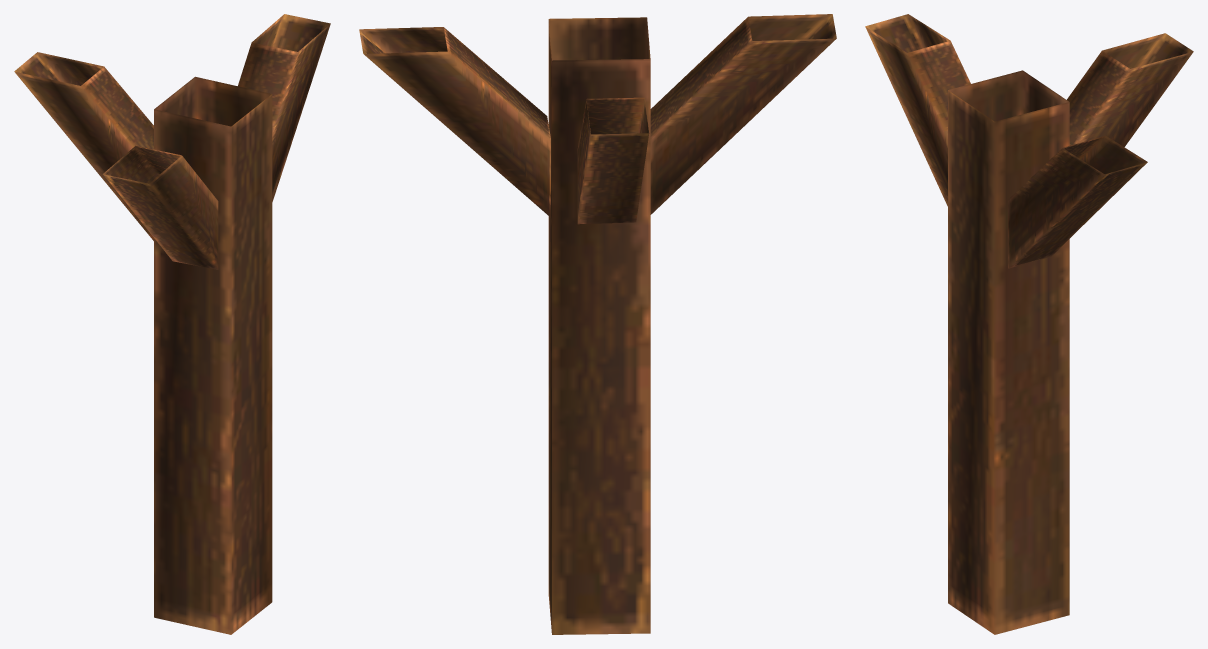
File: SWORDLIGHT20_JAILPLATSUPPORT45.fbx
The picture shows the model from 3 angles, left to right: view 1: azimuth 30°, elevation 25°; view 2: azimuth 150°, elevation 25°; view 3: azimuth 270°, elevation 25°; orthographic projection. The views are drawn at different scales.
Parts seen in each view (by area): view 1: SWORDLIGHT20_JAILPLATSUPPORT45; view 2: SWORDLIGHT20_JAILPLATSUPPORT45; view 3: SWORDLIGHT20_JAILPLATSUPPORT45.
Boxes of the visible parts, x1,y1,x2,y2 form: SWORDLIGHT20_JAILPLATSUPPORT45: (14, 14, 330, 634); SWORDLIGHT20_JAILPLATSUPPORT45: (359, 14, 836, 634); SWORDLIGHT20_JAILPLATSUPPORT45: (865, 14, 1193, 634).
Size of the model in its own units: 17220 by 25856 by 14919.
Materials: 1 (1 with a texture image).
